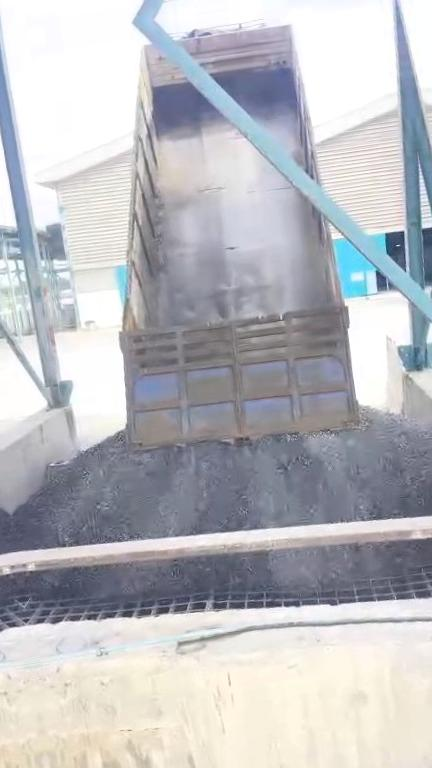gravel: (13, 408, 432, 550), (20, 537, 432, 602)
